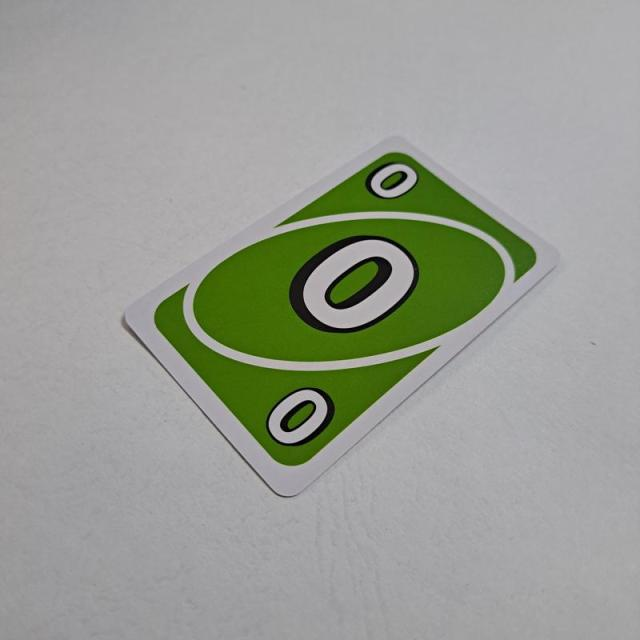Green_Card: (148, 147, 545, 469)
Number_0: (366, 156, 423, 203)
